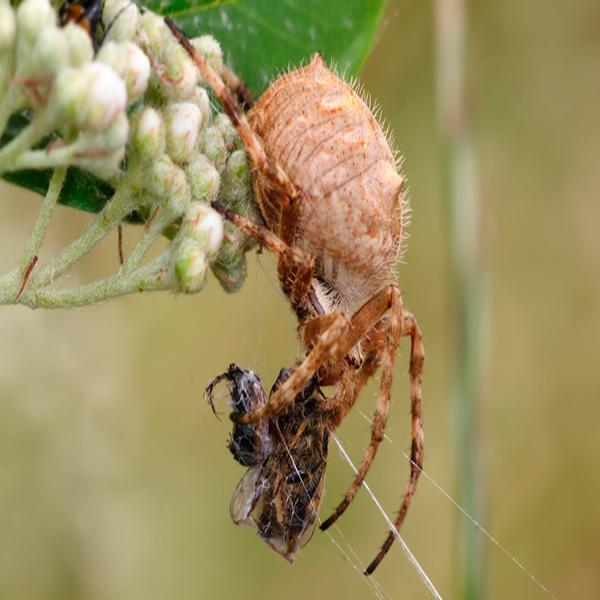Garden Orb Weaver Spider: (178, 26, 430, 565)
